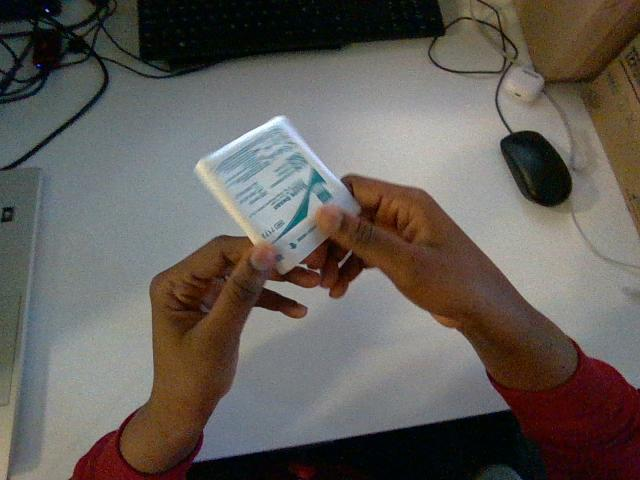gauze: (195, 116, 359, 272)
